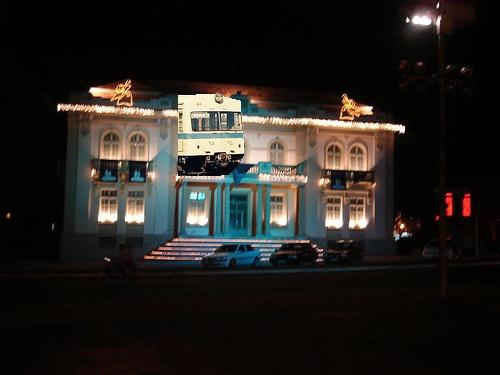tampered: (179, 93, 244, 176)
